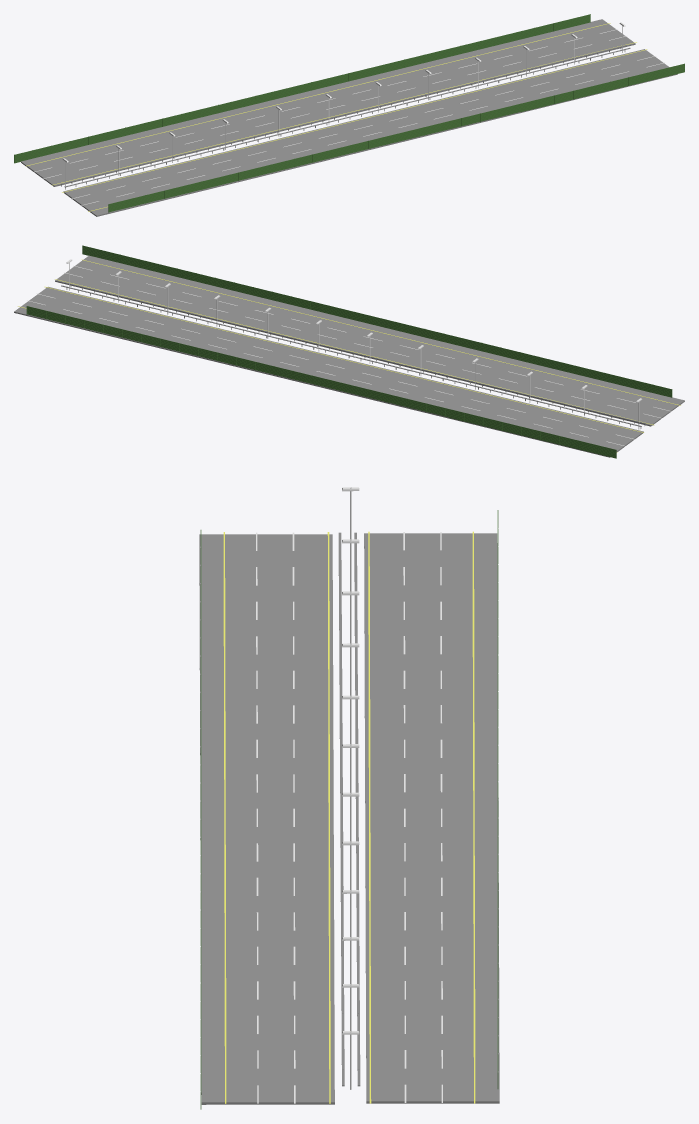
Rendered from cce4de22-04c9-4afd-bcb6-4768c282cd15.glb.
The picture shows the model from 3 angles, top to bottom: view 1: azimuth 30°, elevation 25°; view 2: azimuth 150°, elevation 25°; view 3: azimuth 270°, elevation 25°; orthographic projection. The views are drawn at different scales.
Parts seen in each view (by area): view 1: Box20452, Box20179, Box20755, Box20751, Box20200, Box20447, Box20446; view 2: Box20179, Box20452, Box20751, Box20755, Box20446, Box20199, Box20200; view 3: Box20179, Box20452, Box20755, Box20751, Box20199, Box20447, Box20446, Box20200.
Part boxes in pixels (x1,y1,x2,y2): Box20452: (21, 19, 635, 186); Box20179: (63, 49, 677, 216); Box20755: (64, 47, 630, 187); Box20751: (61, 45, 626, 184); Box20200: (62, 49, 647, 192); Box20447: (25, 23, 610, 166); Box20446: (51, 42, 636, 185); Box20179: (55, 255, 684, 426); Box20452: (14, 286, 643, 457); Box20751: (61, 285, 641, 426); Box20755: (65, 282, 645, 423); Box20446: (44, 286, 643, 432); Box20199: (81, 259, 680, 405); Box20200: (55, 279, 654, 425); Box20179: (199, 534, 334, 1104); Box20452: (364, 533, 499, 1103); Box20755: (338, 532, 344, 1086); Box20751: (354, 532, 360, 1086); Box20199: (223, 532, 226, 1103); Box20447: (472, 531, 475, 1103); Box20446: (368, 531, 371, 1103); Box20200: (327, 532, 330, 1103).
Bounding box in the file's own units: 4048 × 188 × 883.
